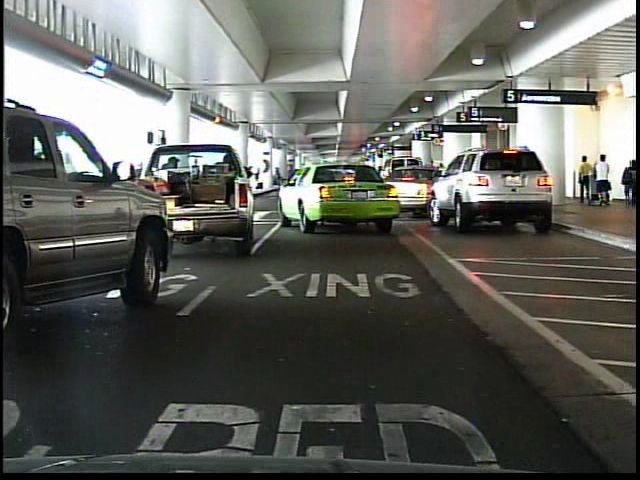person: (595, 152, 614, 209), (577, 156, 594, 205), (622, 159, 636, 210)
